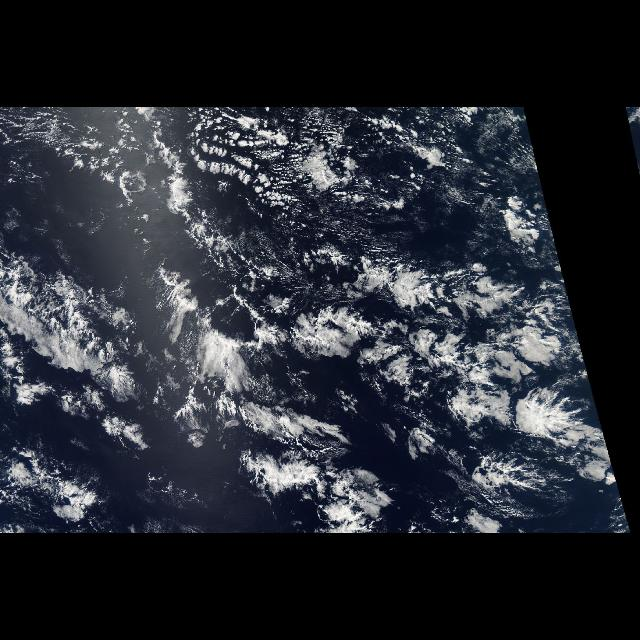Flower: (0, 239, 618, 533)
